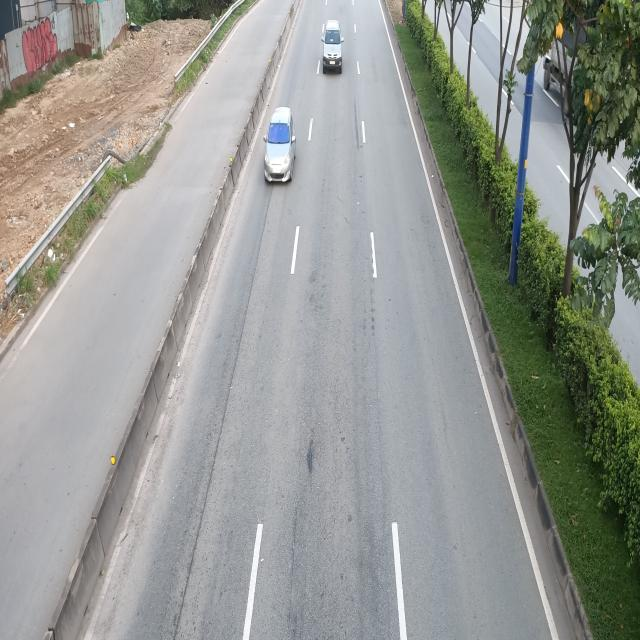car: (264, 107, 297, 184), (323, 20, 345, 74)
